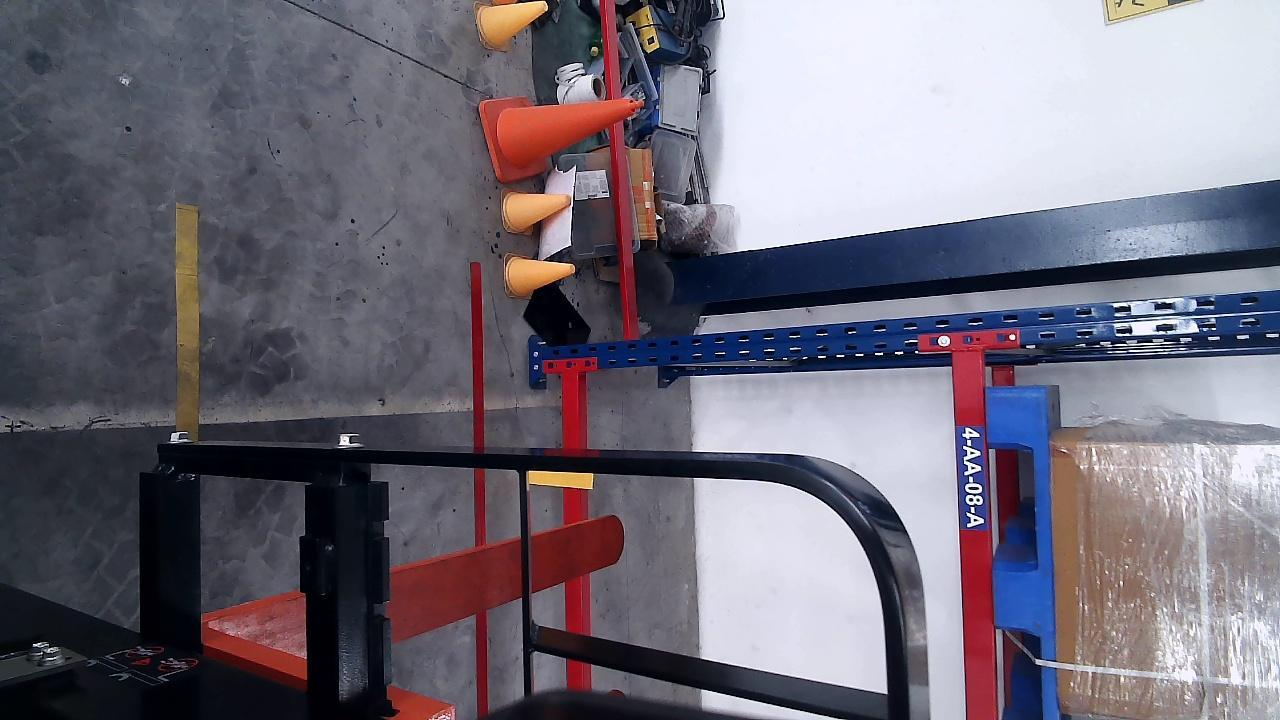h_rack: (952, 346, 1000, 719), (563, 372, 580, 682)
red_line: (468, 262, 488, 720)
small_pallet: (986, 384, 1054, 718)
yellow_line: (176, 205, 199, 440)
